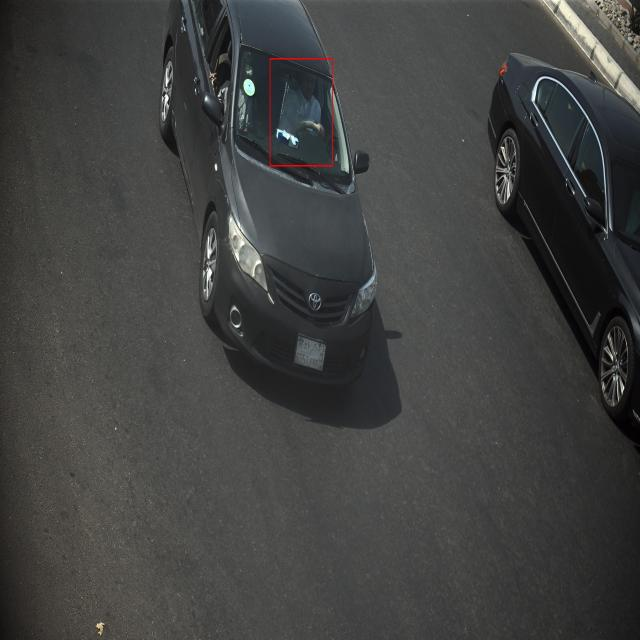windshield: (227, 42, 348, 186)
